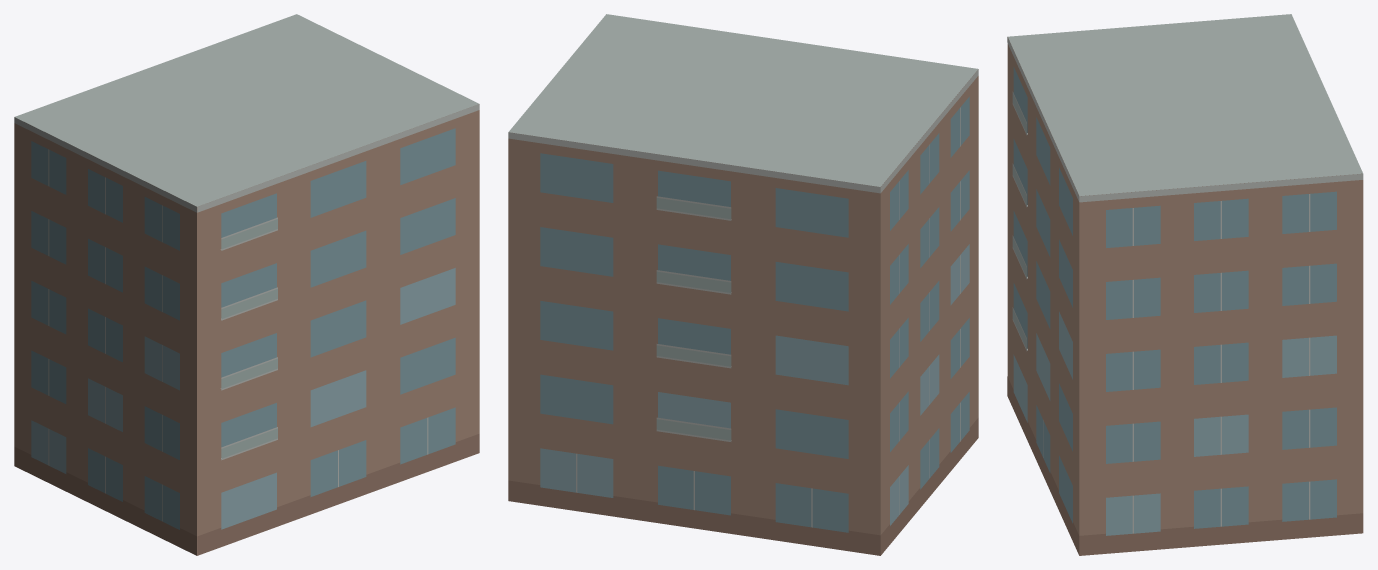
File: survey-upis-32721913.glb
3 renders of one model, left to right at view 1: azimuth 30°, elevation 25°; view 2: azimuth 150°, elevation 25°; view 3: azimuth 270°, elevation 25°, orthographic. The views are drawn at different scales.
Visible parts, largest first — view 1: survey-upis-32721913.tmp; view 2: survey-upis-32721913.tmp; view 3: survey-upis-32721913.tmp.
Part boxes in pixels (<box>): survey-upis-32721913.tmp: <box>14,14,479,555</box>; survey-upis-32721913.tmp: <box>508,14,978,555</box>; survey-upis-32721913.tmp: <box>1007,14,1363,555</box>.
Size of the model in its own units: 15.38 by 14.15 by 12.69.
